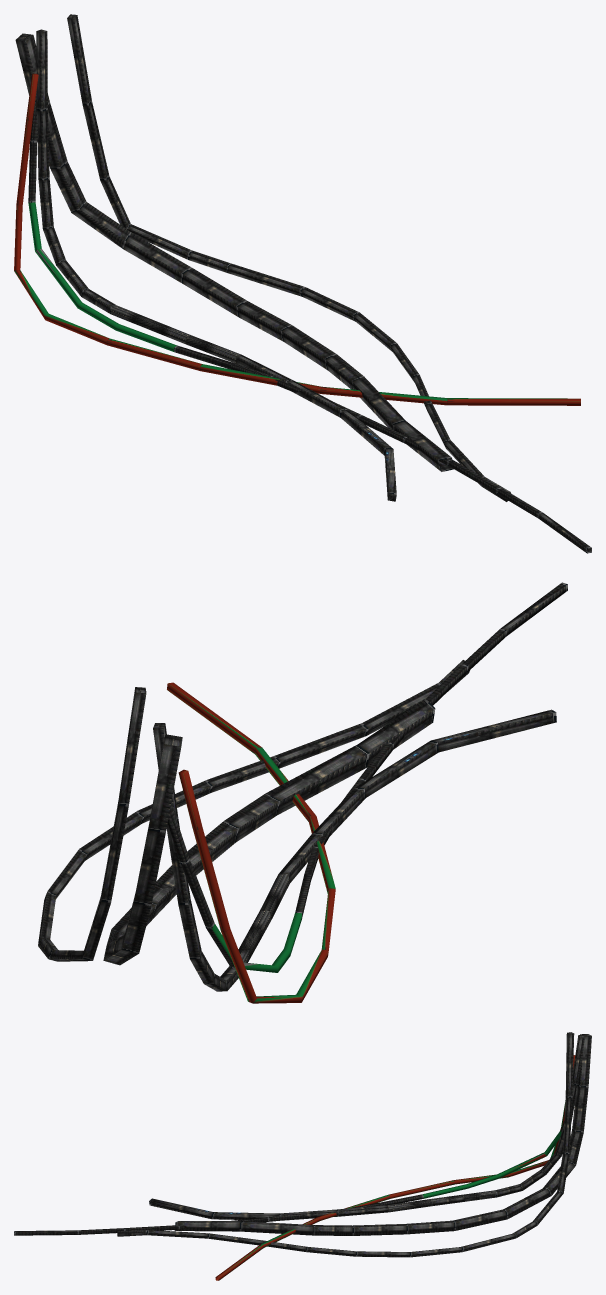
File: S_Build_Desert039.FBX
3 views of the same model, one above another, from view 1: azimuth 30°, elevation 25°; view 2: azimuth 150°, elevation 25°; view 3: azimuth 270°, elevation 25° (orthographic). The views are drawn at different scales.
Visible parts, largest first — view 1: S_Build_Desert039; view 2: S_Build_Desert039; view 3: S_Build_Desert039.
Part boxes in pixels (x1,y1,x2,y2): S_Build_Desert039: [14, 14, 591, 553]; S_Build_Desert039: [38, 582, 567, 1003]; S_Build_Desert039: [14, 1032, 591, 1280].
Size of the model in its own units: 488 by 1151 by 380.
